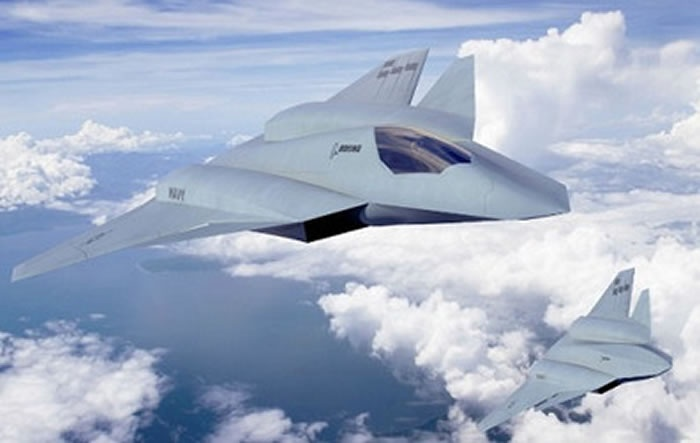airplane: (9, 44, 583, 287), (478, 261, 676, 432)
